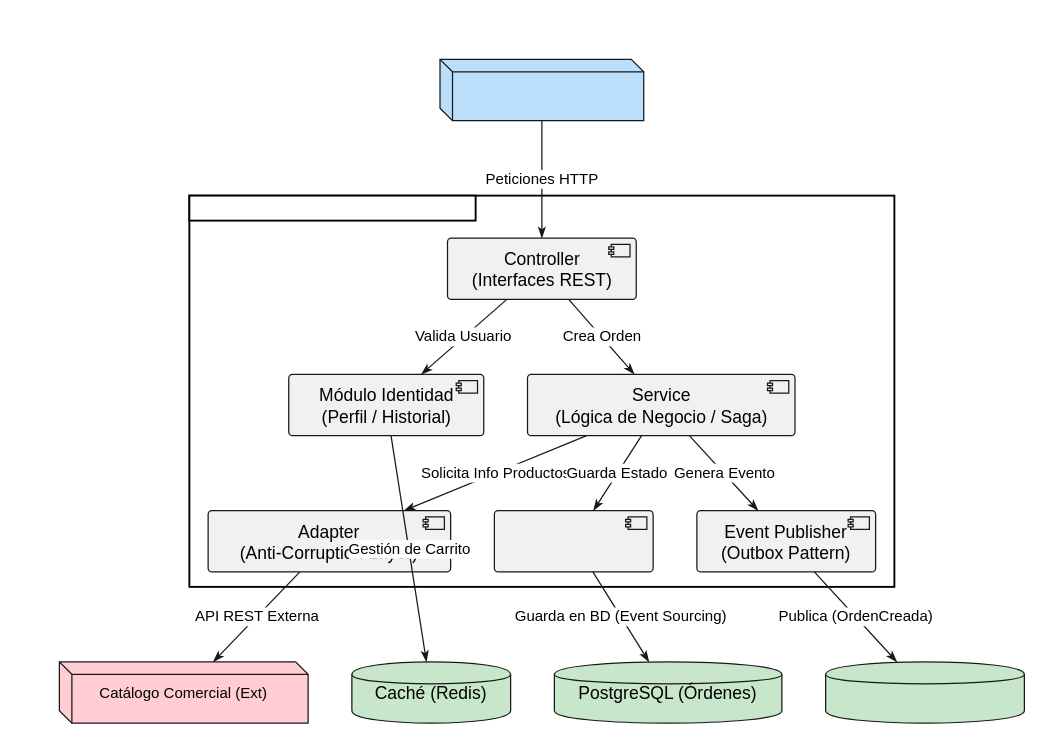
This 1046x745 diagram has some shape labels left out. Here are the shapes that lost their labels. From the top down, the box of each, then its label:
(439, 58, 644, 121): API Gateway (Kong)
(188, 194, 476, 221): Servicio de Órdenes + Identidad
(493, 509, 653, 572): Repository (Data Access)
(824, 661, 1024, 723): Broker (RabbitMQ)
